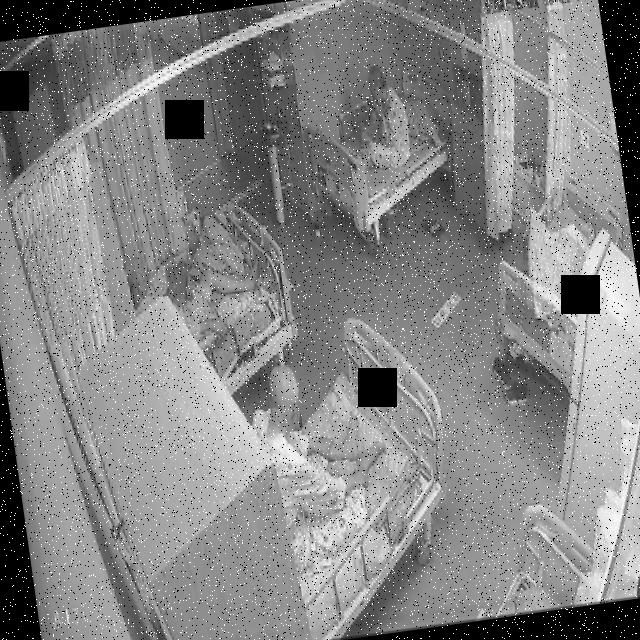bed: (234, 312, 471, 640), (476, 168, 640, 400), (146, 205, 302, 405), (302, 63, 465, 239)
patient: (242, 351, 402, 576), (122, 232, 284, 364), (350, 64, 414, 178)
sit: (242, 350, 402, 577), (121, 232, 285, 362), (350, 66, 416, 176)
